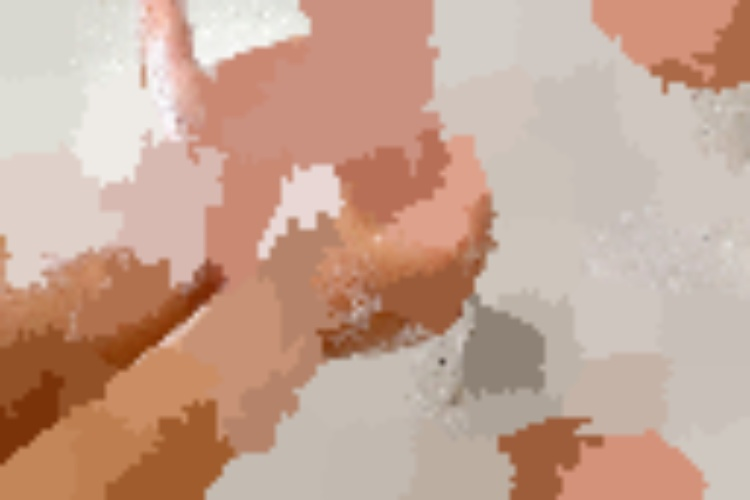washing hand: (0, 0, 602, 499)
